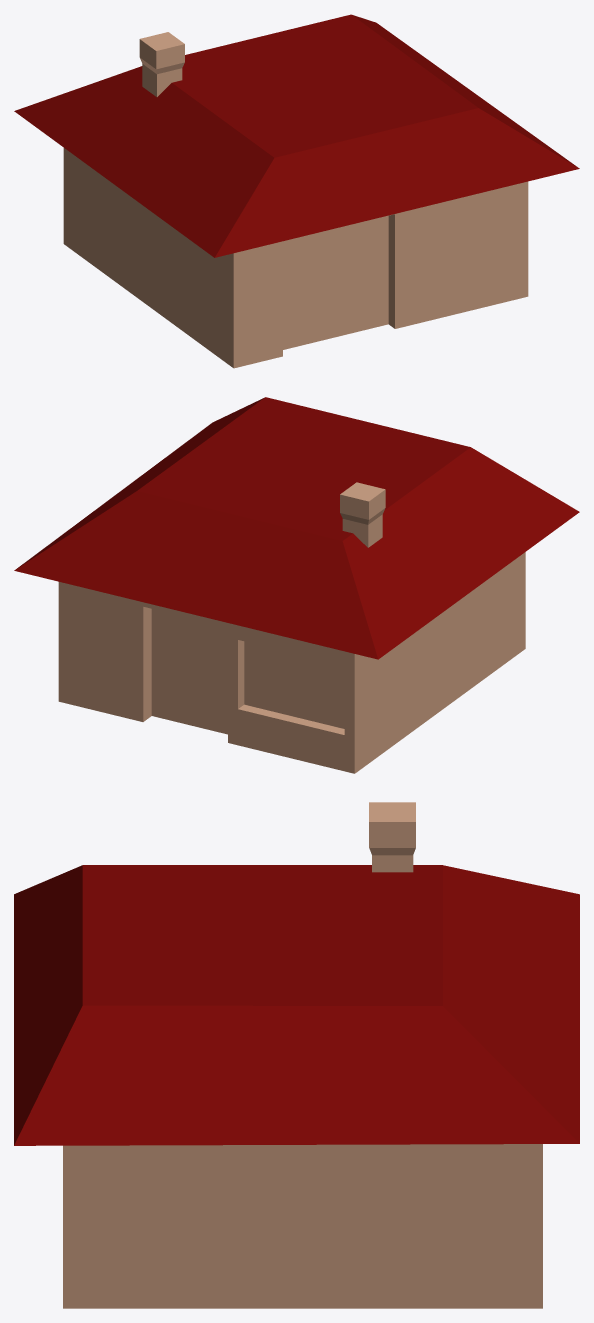
The model's file is SmallHouse.fbx.
3 renders of one model, top to bottom at view 1: azimuth 30°, elevation 25°; view 2: azimuth 150°, elevation 25°; view 3: azimuth 270°, elevation 25°, orthographic. The views are drawn at different scales.
Visible parts, largest first — view 1: SmallHouseRoof, SmallHouse; view 2: SmallHouseRoof, SmallHouse; view 3: SmallHouseRoof, SmallHouse.
Boxes of the visible parts, left/top/right/bottom form: SmallHouseRoof: left=14, top=14, right=579, bottom=257; SmallHouse: left=63, top=32, right=528, bottom=368; SmallHouseRoof: left=14, top=397, right=579, bottom=659; SmallHouse: left=58, top=482, right=525, bottom=773; SmallHouseRoof: left=14, top=865, right=579, bottom=1145; SmallHouse: left=63, top=802, right=542, bottom=1308.
Bounding box in the file's own units: 8.68 × 5.23 × 8.25.
